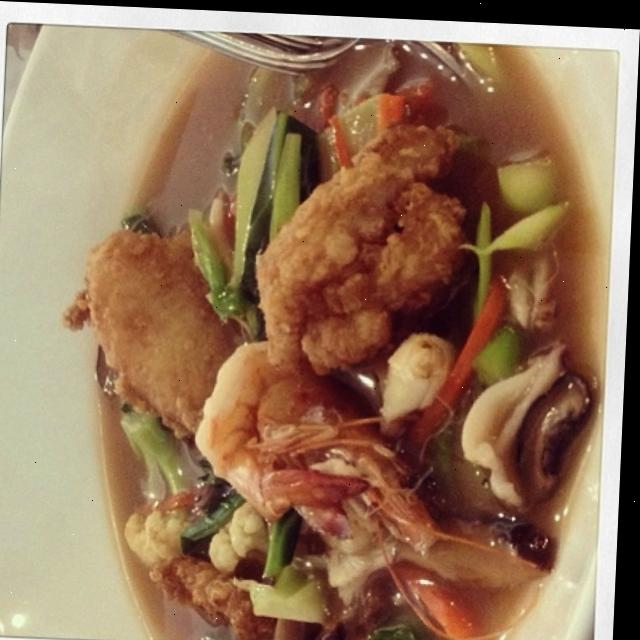面条主食: (33, 31, 589, 640)
